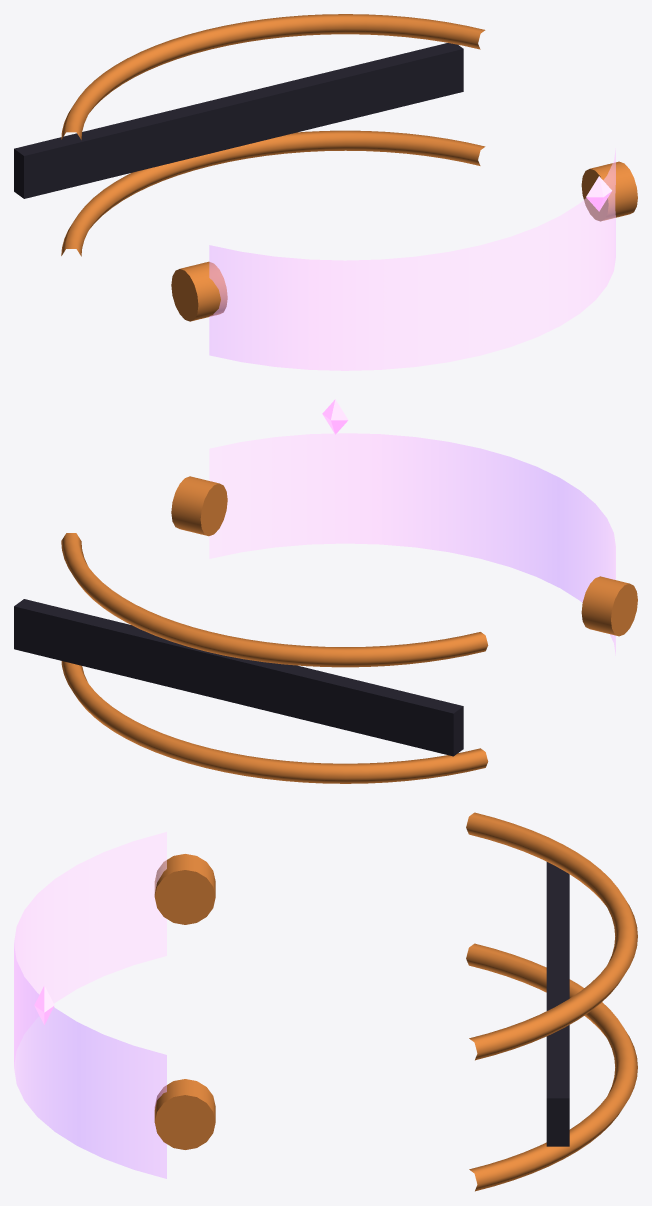
Rendered from gl_eqgw3.glb.
The picture shows the model from 3 angles, top to bottom: view 1: azimuth 30°, elevation 25°; view 2: azimuth 150°, elevation 25°; view 3: azimuth 270°, elevation 25°; orthographic projection. The views are drawn at different scales.
Bounding box in the file's own units: 2.31 × 0.7307 × 2.53.
